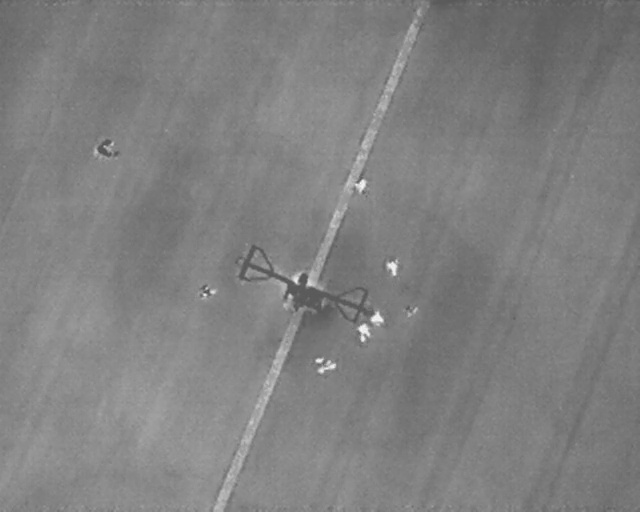Person: (93, 139, 121, 160), (315, 356, 338, 376), (351, 175, 371, 196), (197, 283, 219, 301), (370, 309, 386, 329), (356, 321, 370, 343), (385, 257, 397, 278), (403, 304, 418, 319)
